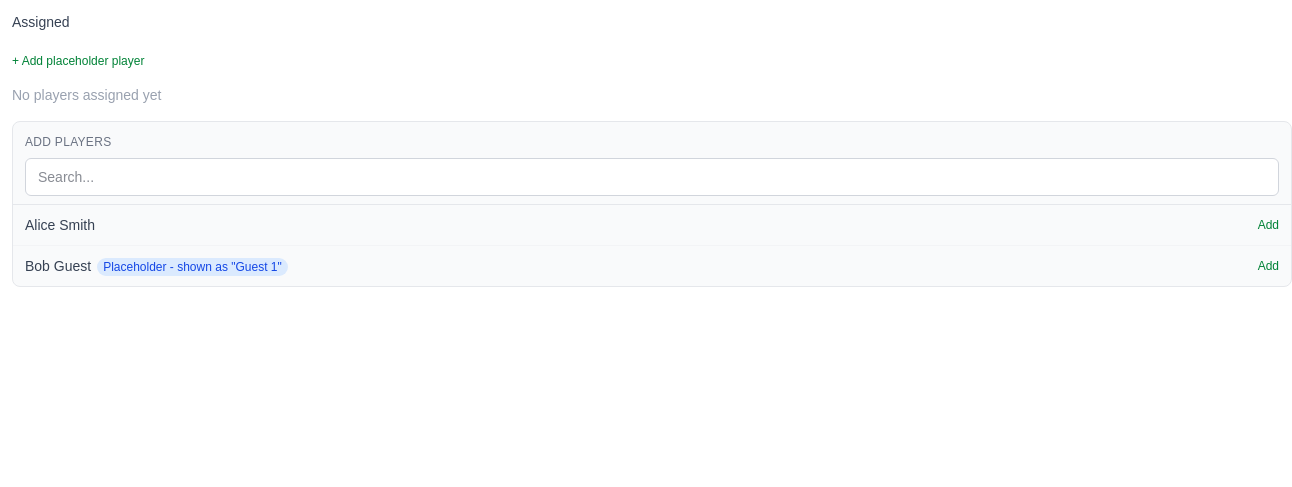
Scenario: AssignPlayersPanel placeholders › requires an alias when anonymizing a new placeholder
Expected: the text "Alice Smith" is shown, [25,215,95,235]
Step 1. Click the button "+ Add placeholder player" → (78, 61), box [12,53,144,69]
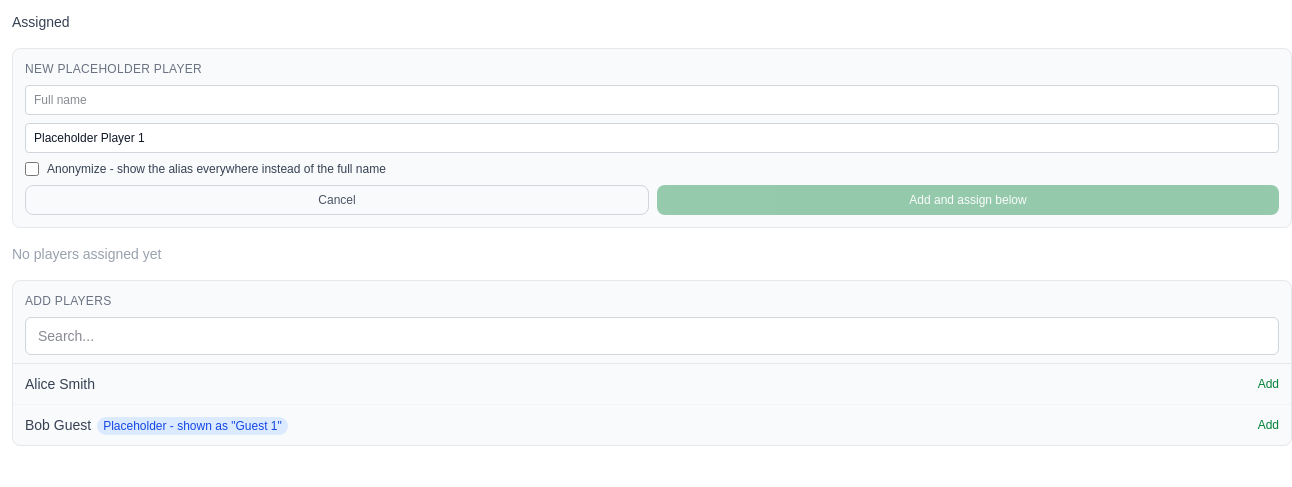
Step 2. Type "Carl Newguest" into the field with placeholder "Full name" → (652, 100), box [25,85,1279,115]
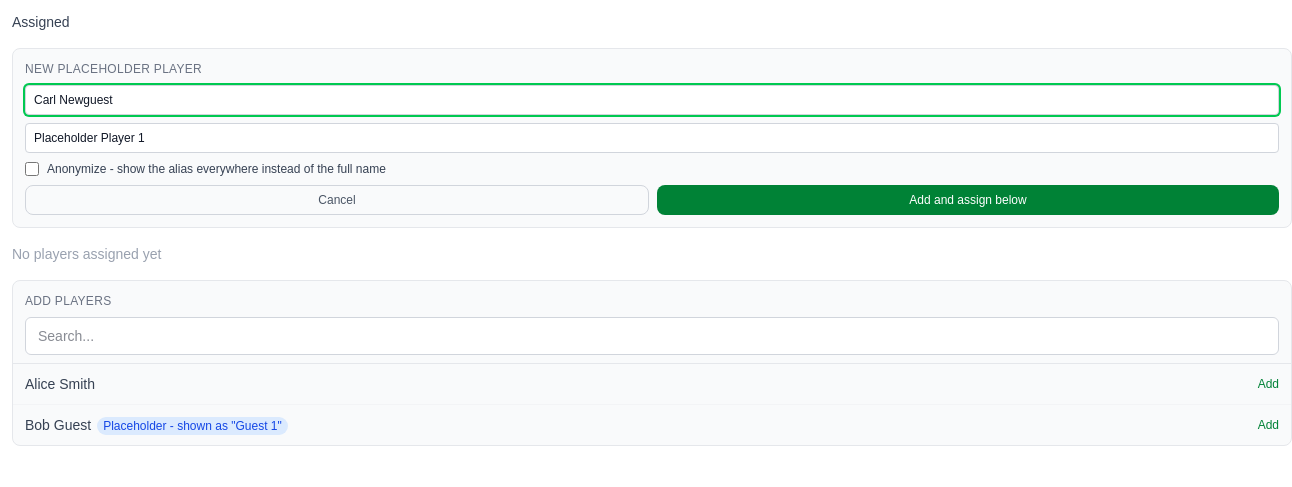
Step 3. Clear the 2nd field with placeholder "Alias (shown when anonymized)" → (652, 138), box [25,123,1279,153]
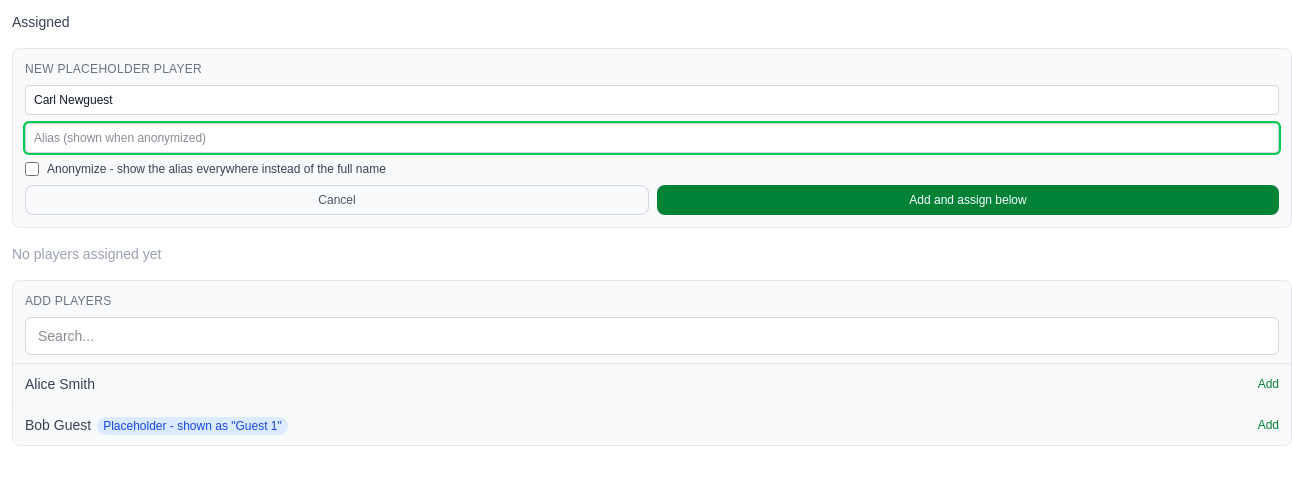
Step 4. Click the text "Anonymize" → (205, 169), box [25,162,386,176]
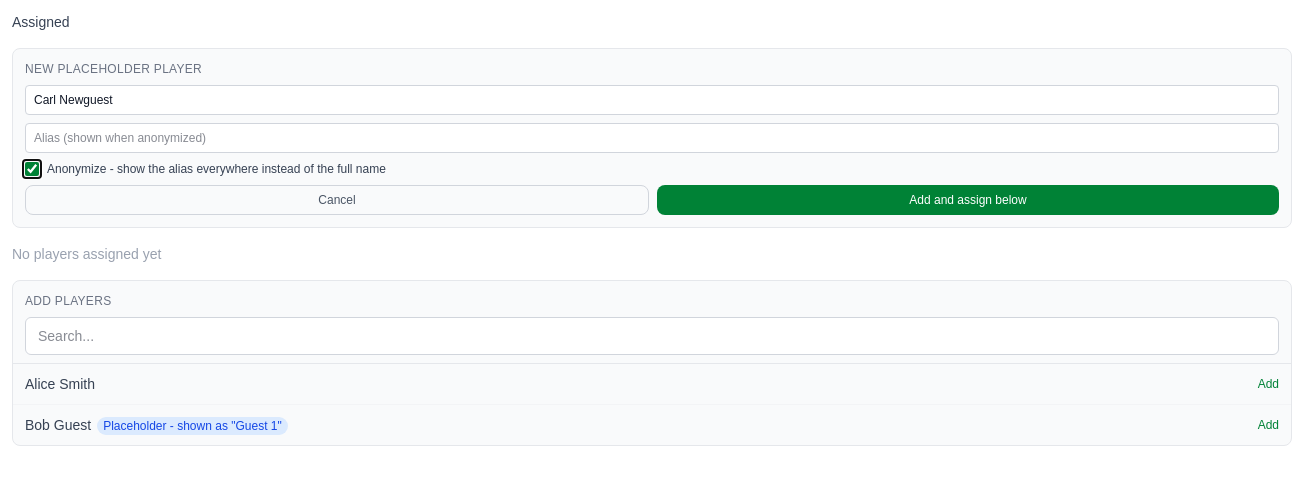
Step 5. Click the button "Add and assign below" → (968, 200), box [657,185,1279,215]
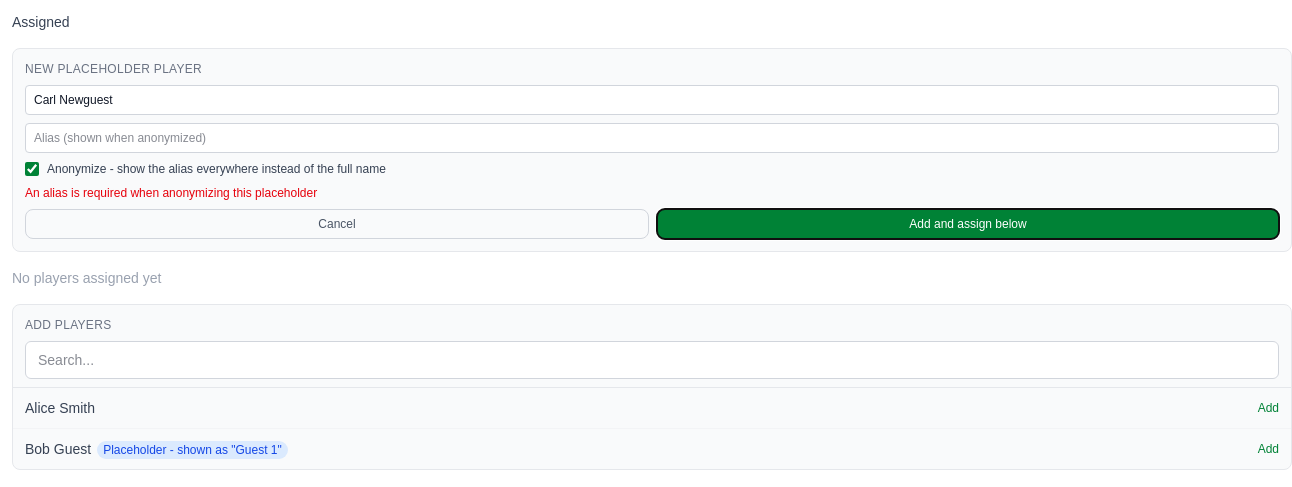
Now the text "An alias is required when anonymizing this placeholder" is shown, box [25,186,317,200]
